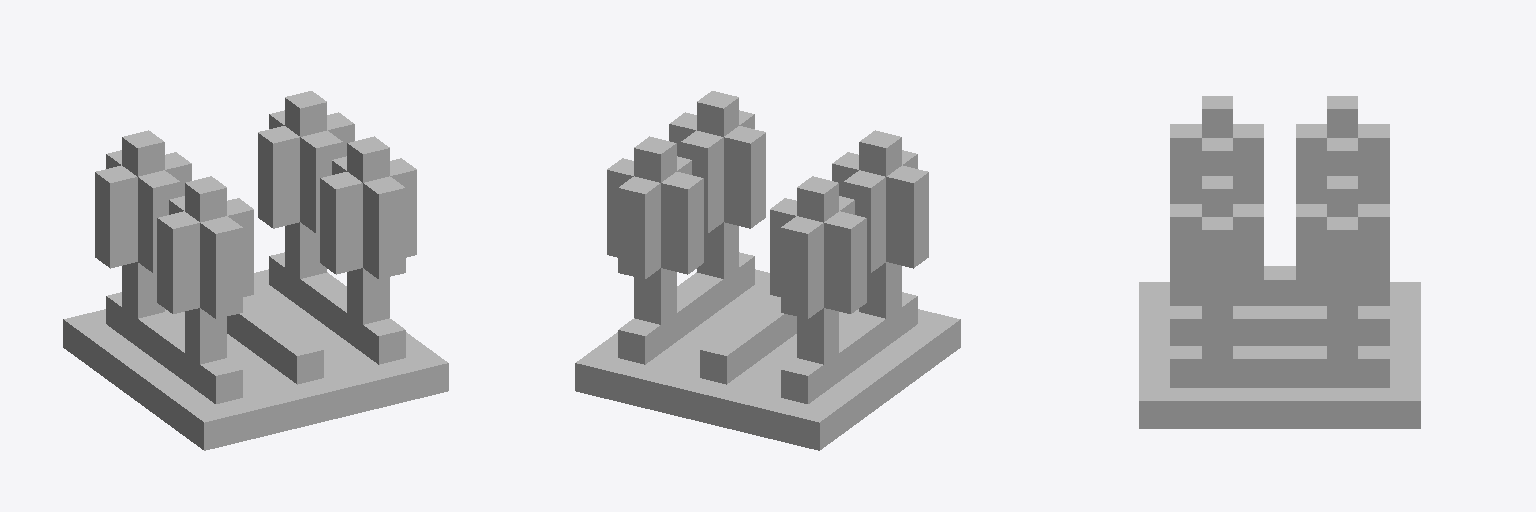
File: Corn 3.obj
3 views of the same model, side by side, from view 1: azimuth 30°, elevation 25°; view 2: azimuth 150°, elevation 25°; view 3: azimuth 270°, elevation 25° (orthographic).
Visible parts, largest first — view 1: object 1; view 2: object 1; view 3: object 1.
Part boxes in pixels (left/top/right/bottom): object 1: left=63, top=91, right=448, bottom=450; object 1: left=575, top=91, right=960, bottom=450; object 1: left=1139, top=96, right=1420, bottom=428.
Size of the model in its own units: 0.9 by 0.8 by 0.9.